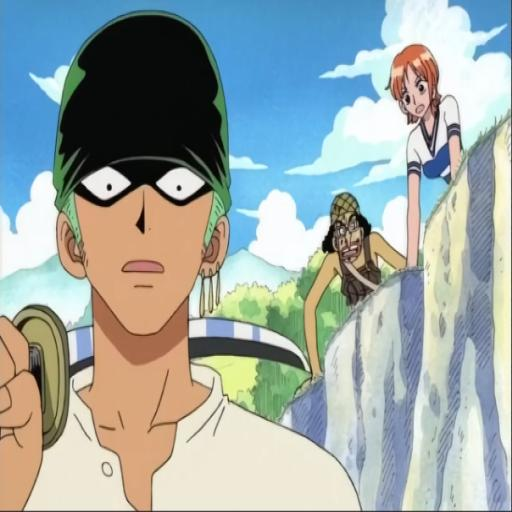Nami: (376, 38, 478, 242)
Usopp: (295, 182, 402, 367)
Zoro: (0, 12, 307, 512)
